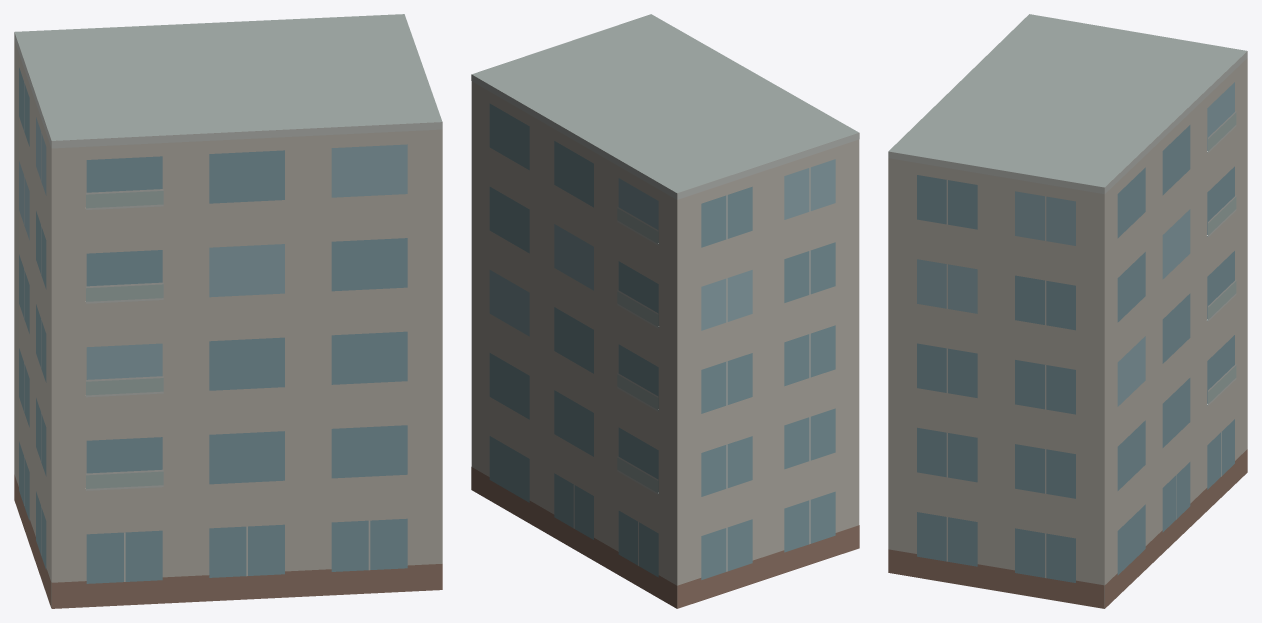
Rendered from survey-upis-32894494.glb.
3 renders of one model, left to right at view 1: azimuth 30°, elevation 25°; view 2: azimuth 150°, elevation 25°; view 3: azimuth 270°, elevation 25°, orthographic. The views are drawn at different scales.
Visible parts, largest first — view 1: survey-upis-32894494.tmp; view 2: survey-upis-32894494.tmp; view 3: survey-upis-32894494.tmp.
Part boxes in pixels (x1=…): survey-upis-32894494.tmp: x1=14, y1=14, x2=442, y2=608; survey-upis-32894494.tmp: x1=471, y1=14, x2=859, y2=608; survey-upis-32894494.tmp: x1=888, y1=14, x2=1247, y2=608.
Size of the model in its own units: 13.48 by 15.25 by 11.8.
